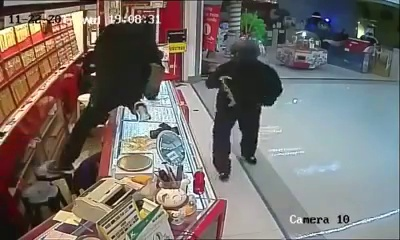helmet: (224, 41, 258, 60)
